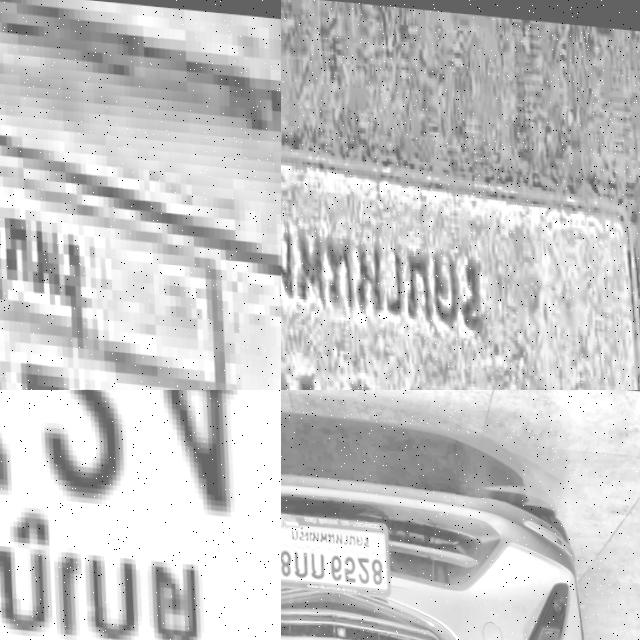license-plate: (0, 0, 281, 390), (281, 94, 640, 390), (0, 390, 281, 640), (281, 506, 388, 592)
